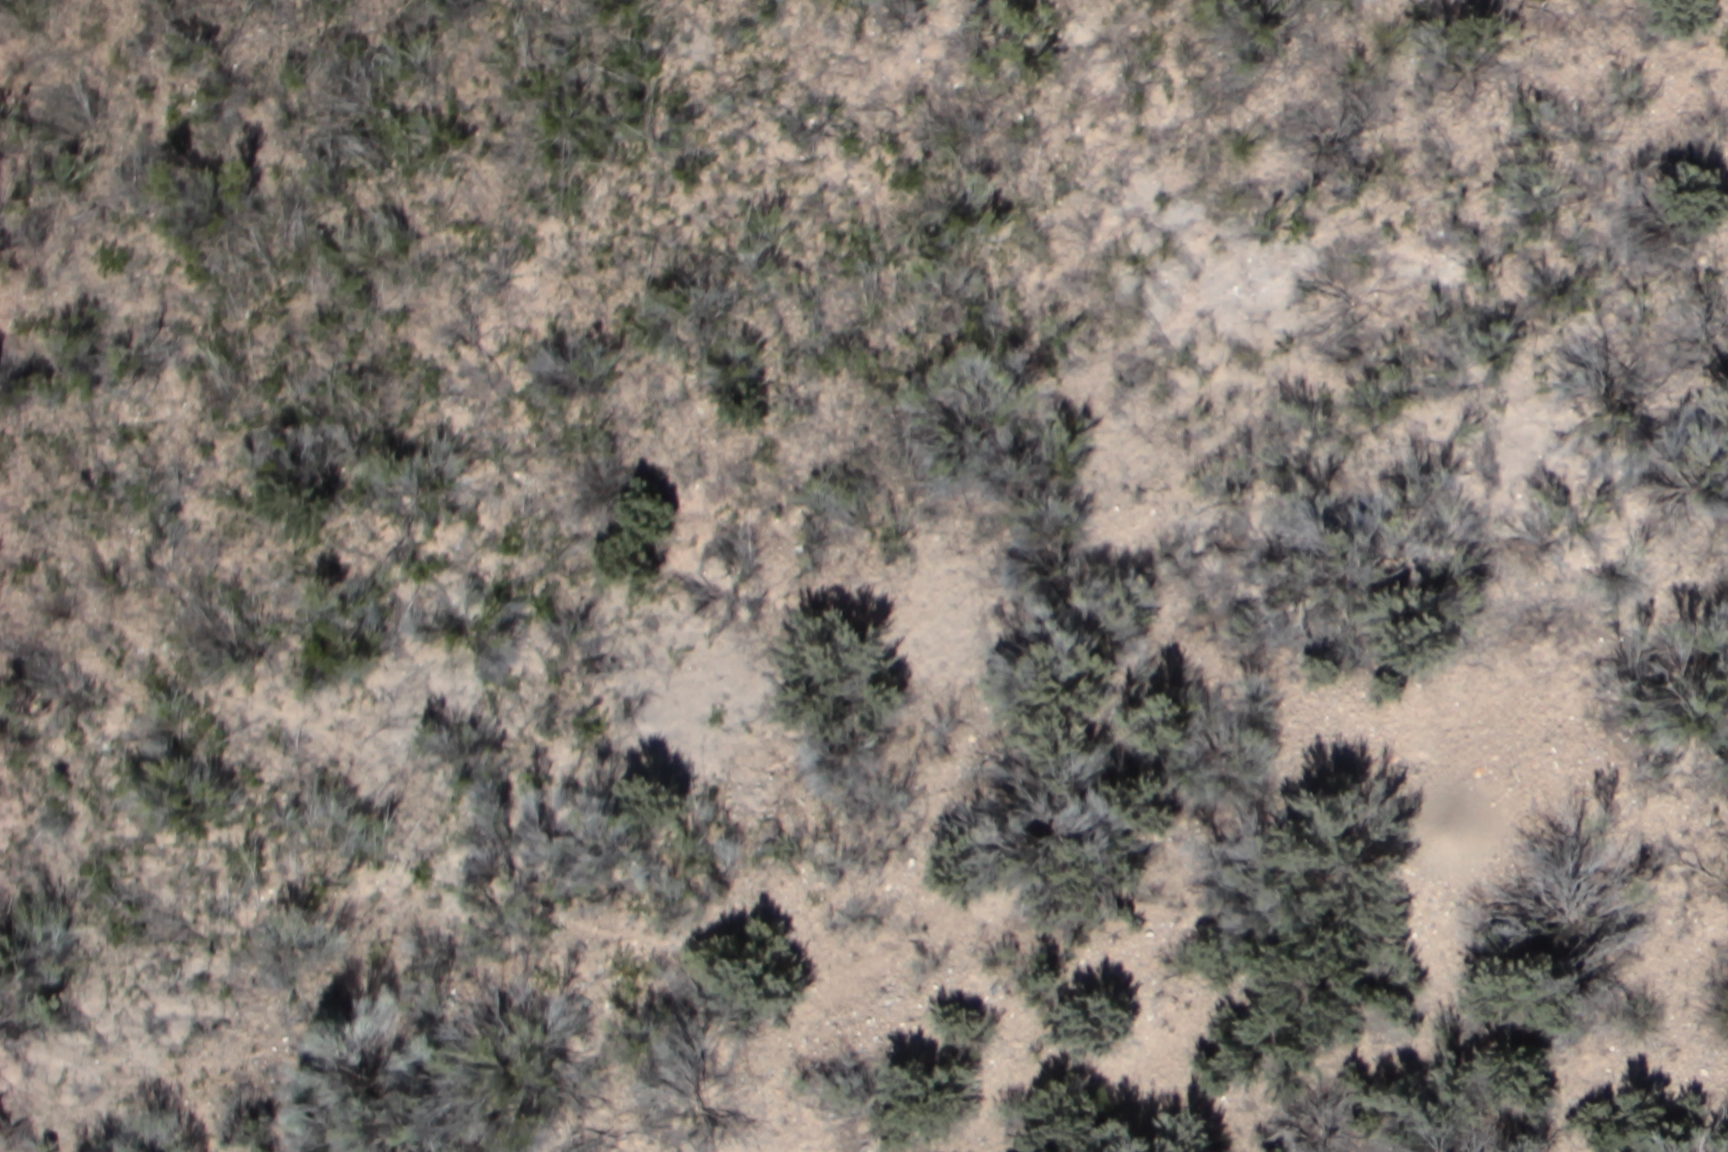burrow: (1382, 765, 1504, 879)
